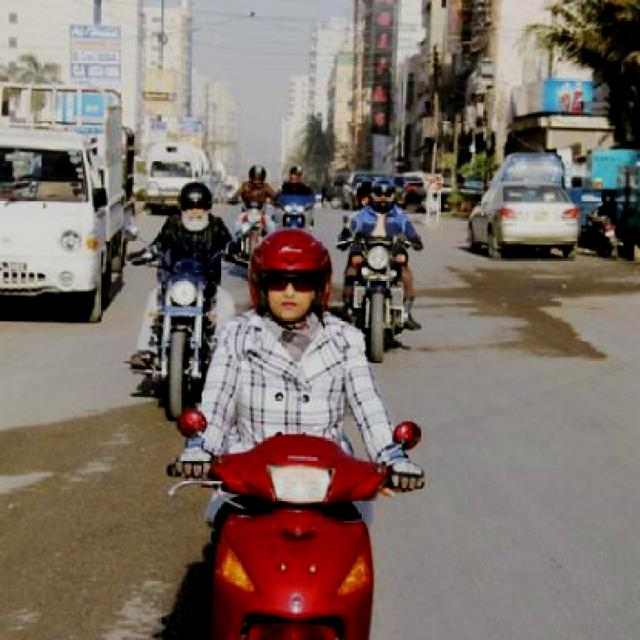With Helmet: (248, 223, 335, 328), (177, 178, 214, 234), (368, 175, 395, 213), (249, 163, 268, 191)
